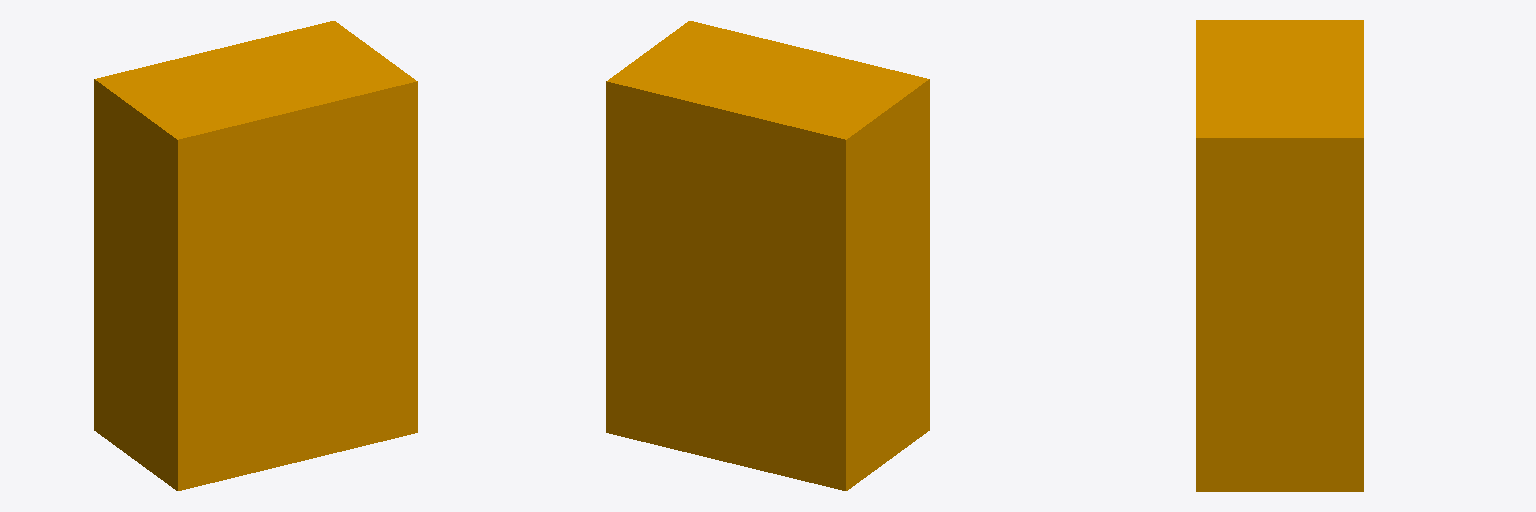
robot.urdf — object:
<?xml version="0.0"?>
	<robot name="object">
		<link name="object">
			<visual>
				<origin xyz="0 0 0"/>
				<geometry>
					<box size="0.5 0.3 0.7"/>
				</geometry>
			</visual>
			<inertial>
				<mass value="10.500"/>
			</inertial>
			<collision>
				<origin xyz="0 0 0"/>
				<geometry>
					<box size="0.5 0.3 0.7"/>
				</geometry>
			</collision>
		</link>

	</robot>

--- Render facts (derived) ---
Views: 3 orthographic renders of the robot side by side, from view 1: azimuth 30°, elevation 25°; view 2: azimuth 150°, elevation 25°; view 3: azimuth 270°, elevation 25°.
Model object with 1 links and 0 joints (none), rooted at object, posed every joint at zero.
Visible links, largest first — view 1: object; view 2: object; view 3: object.
Link boxes in pixels (x1,y1,x2,y2): object: [94, 21, 417, 490]; object: [606, 21, 929, 490]; object: [1196, 20, 1363, 491].
Bounding box of the posed robot: 0.5 × 0.3 × 0.7 m (x, y, z).
Geometry: primitives only (box / cylinder / sphere), no mesh files.